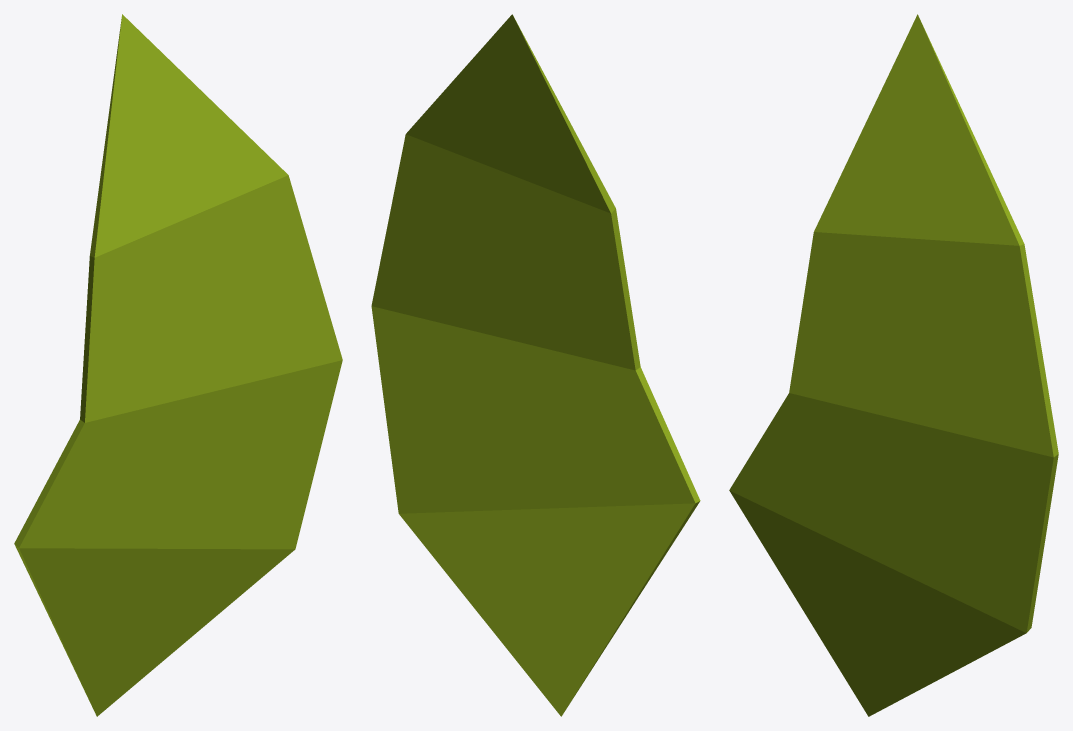
Rendered from LeaveBent_a_01.fbx.
3 views of the same model, side by side, from view 1: azimuth 30°, elevation 25°; view 2: azimuth 150°, elevation 25°; view 3: azimuth 330°, elevation 25° (orthographic). The views are drawn at different scales.
Parts seen in each view (by area): view 1: LeaveBent_a_01_LOD0; view 2: LeaveBent_a_01_LOD0; view 3: LeaveBent_a_01_LOD0.
Boxes of the visible parts, <box> form: LeaveBent_a_01_LOD0: <box>14,14,342,716</box>; LeaveBent_a_01_LOD0: <box>371,14,700,716</box>; LeaveBent_a_01_LOD0: <box>729,14,1058,716</box>.
Size of what is drawn, in the model's own units: 1.76 by 3.59 by 0.4179.
